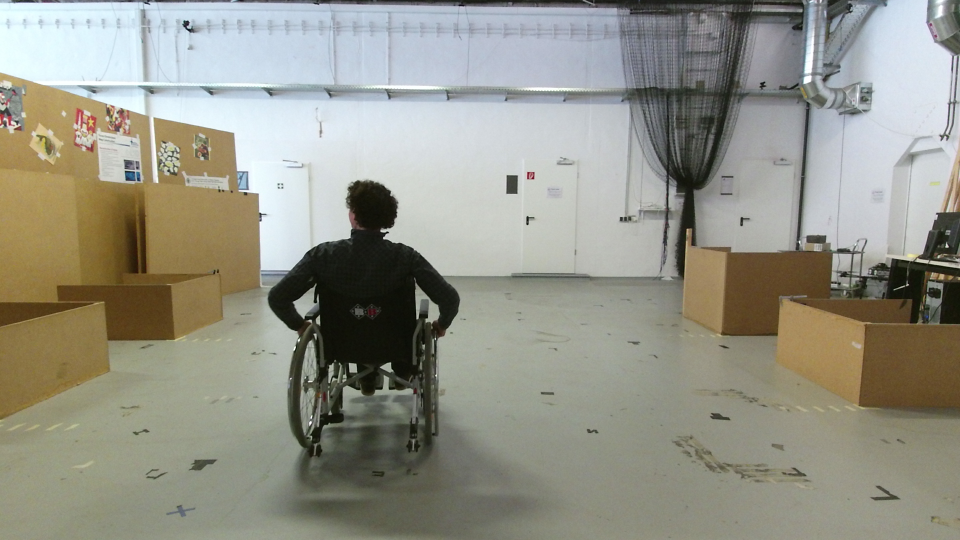wheelchair: (255, 170, 456, 469)
